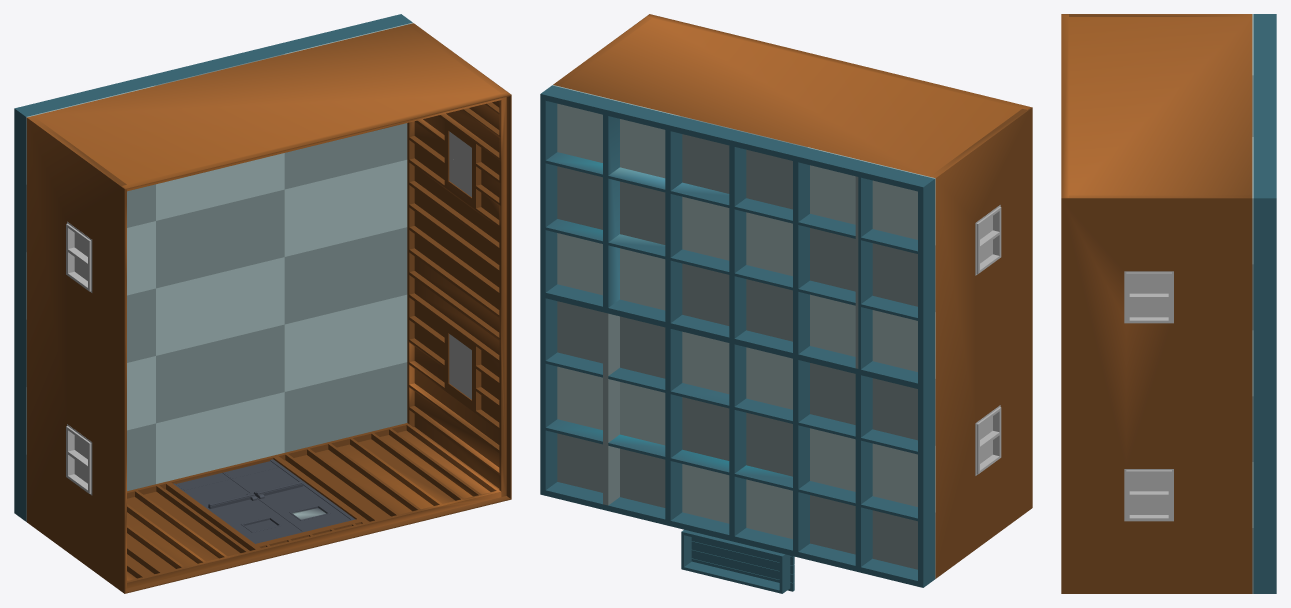
The model's file is Garage.dae.
3 views of the same model, side by side, from view 1: azimuth 30°, elevation 25°; view 2: azimuth 150°, elevation 25°; view 3: azimuth 270°, elevation 25° (orthographic). The views are drawn at different scales.
Visible parts, largest first — view 1: node; view 2: node; view 3: node.
Boxes of the visible parts, bbox=[...] form: node: bbox=[14, 14, 511, 593]; node: bbox=[540, 14, 1032, 593]; node: bbox=[1061, 14, 1276, 593].
Bounding box in the file's own units: 5.86 × 6.43 × 2.86.
